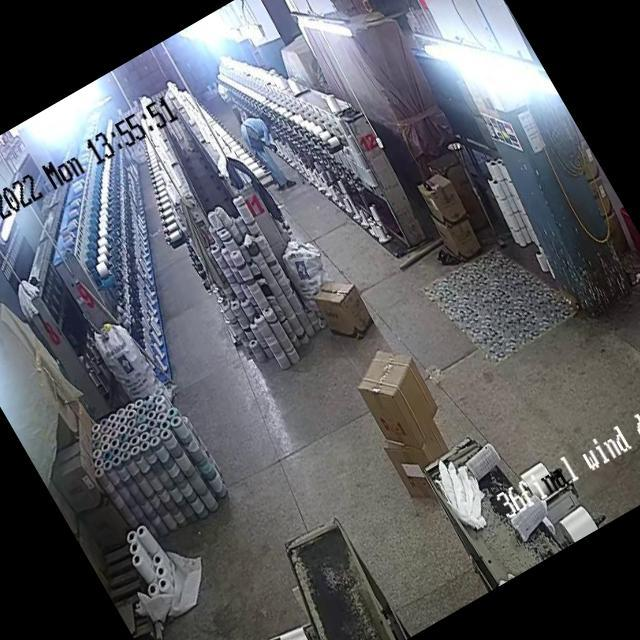person: (236, 108, 301, 192)
